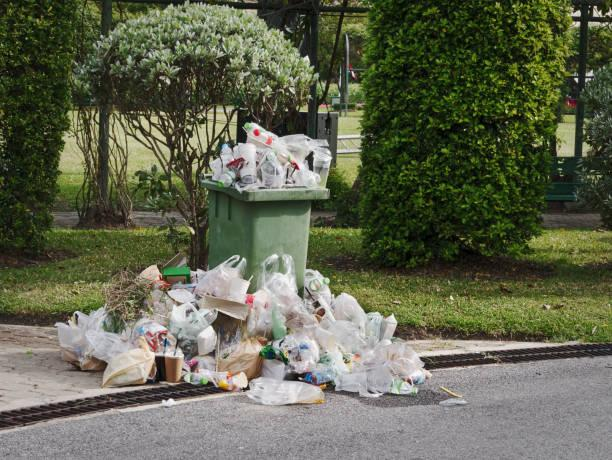trash: (58, 247, 438, 412), (328, 318, 398, 405), (217, 130, 317, 188), (306, 296, 388, 366), (197, 326, 265, 405), (240, 272, 310, 345), (99, 320, 161, 393), (285, 270, 355, 327), (257, 353, 335, 400), (55, 308, 112, 367), (372, 342, 432, 398), (192, 255, 238, 326), (147, 323, 192, 382), (105, 271, 143, 338), (151, 260, 182, 329)
trash_can_overflow: (132, 98, 368, 400)
